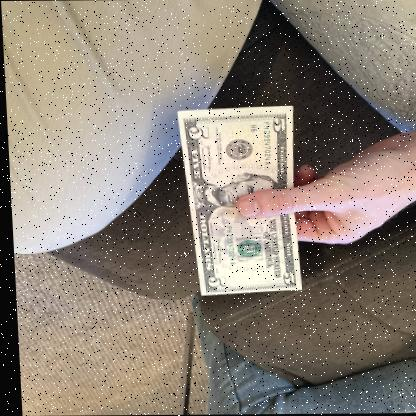five-front: (177, 105, 303, 298)
